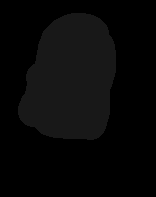fp: (9, 11, 155, 168)
